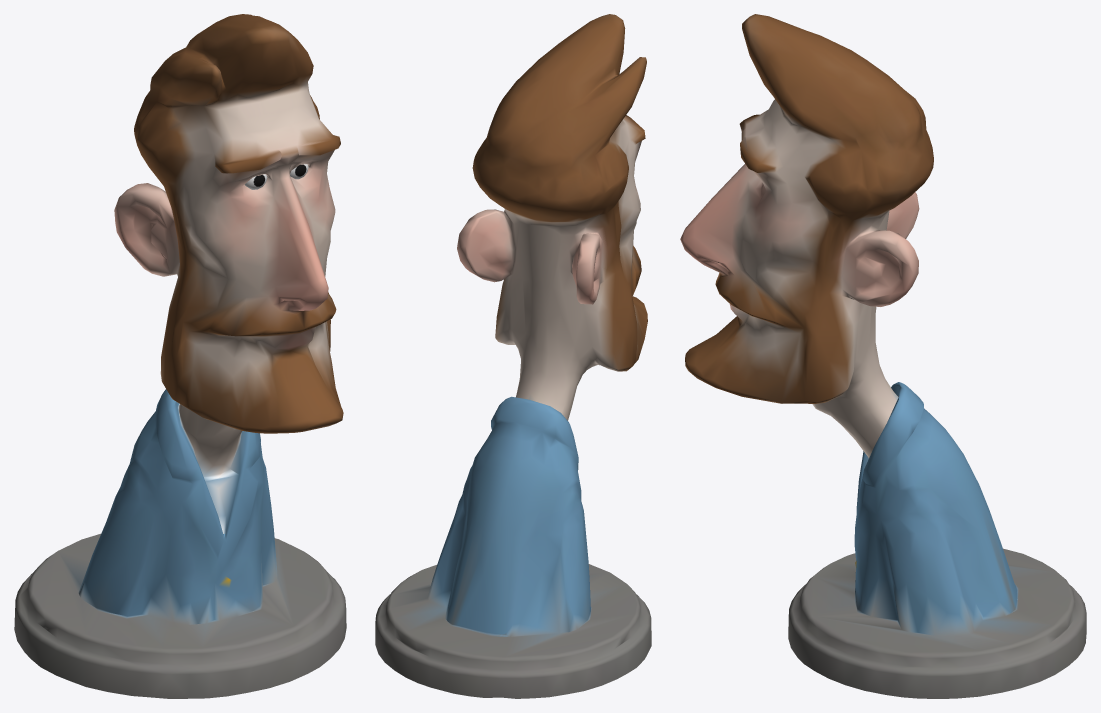
File: max.fbx
The picture shows the model from 3 angles, left to right: view 1: azimuth 30°, elevation 25°; view 2: azimuth 150°, elevation 25°; view 3: azimuth 270°, elevation 25°; orthographic projection. The views are drawn at different scales.
Parts seen in each view (by area): view 1: head; view 2: head; view 3: head.
Part boxes in pixels (bbox=[...]): head: bbox=[14, 14, 346, 698]; head: bbox=[375, 14, 651, 698]; head: bbox=[680, 14, 1086, 698].
Bounding box in the file's own units: 2.7 × 6.08 × 3.66.
1 material, 1 textured.
